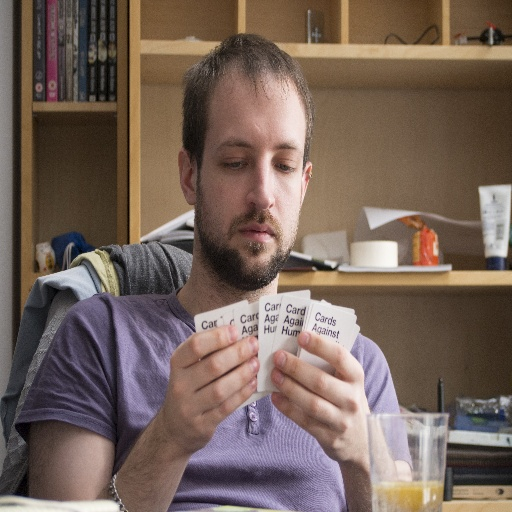hand: (265, 334, 389, 476), (167, 320, 262, 453)
